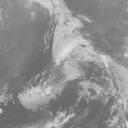cyclone: (30, 39, 97, 96)
